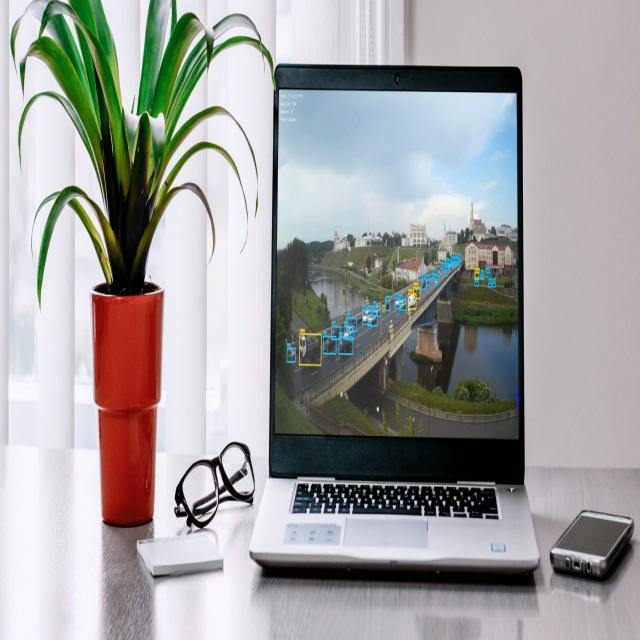book: (131, 510, 231, 624)
laptop: (247, 67, 539, 585)
mobile: (548, 491, 637, 611)
